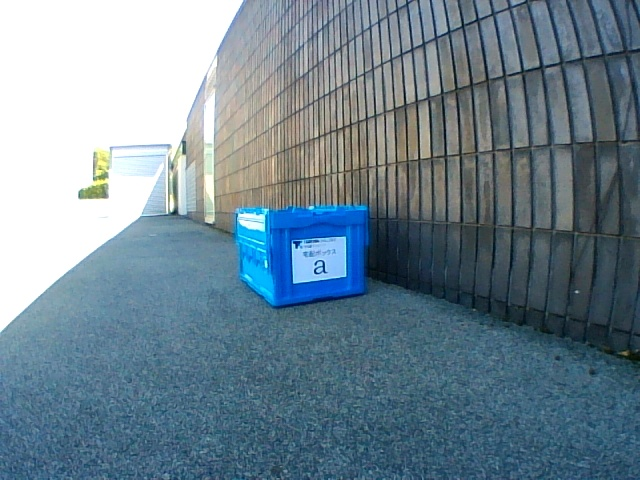blue_box: (236, 206, 367, 307)
tag_a: (296, 243, 342, 276)
